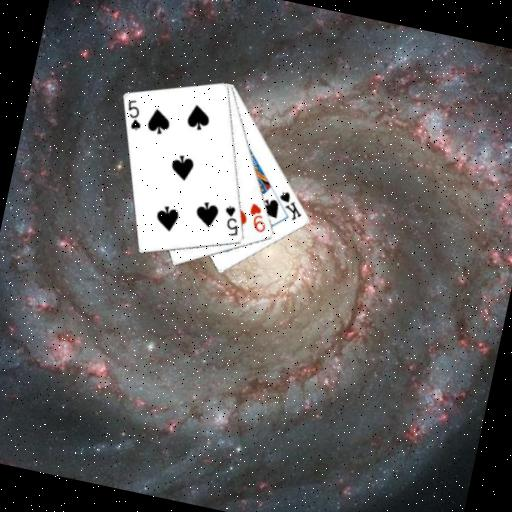5S: (120, 95, 148, 133), (217, 202, 245, 239)
9H: (243, 199, 272, 235)
KS: (272, 187, 308, 224)
